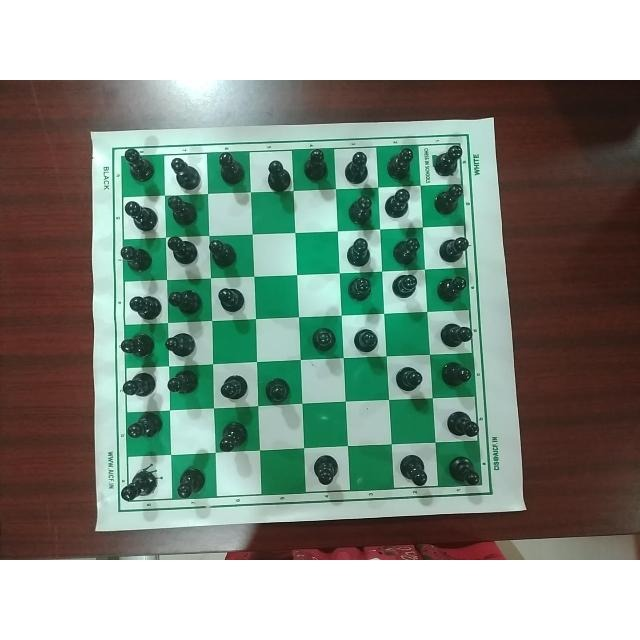black-pawn: (441, 449, 485, 487), (394, 450, 432, 490), (122, 409, 164, 442), (166, 154, 203, 191), (122, 146, 157, 185), (119, 470, 158, 503), (174, 462, 206, 502), (308, 452, 343, 488), (122, 197, 159, 231), (434, 317, 475, 347), (435, 271, 469, 307), (444, 405, 480, 439), (119, 240, 157, 272), (437, 230, 471, 265), (431, 182, 464, 218), (215, 420, 248, 456), (438, 359, 477, 389), (165, 195, 201, 227), (391, 231, 423, 267), (392, 363, 427, 395), (214, 150, 245, 186), (127, 288, 163, 319), (386, 143, 416, 180), (118, 332, 157, 360), (167, 369, 201, 401), (167, 287, 203, 317), (301, 147, 329, 185), (122, 372, 160, 400), (207, 236, 241, 267), (164, 328, 198, 359), (433, 143, 465, 175), (345, 192, 374, 227), (342, 149, 370, 185), (166, 237, 202, 265), (215, 284, 247, 315), (383, 189, 412, 223), (217, 371, 248, 402), (308, 324, 340, 354), (263, 157, 291, 191), (343, 235, 372, 267), (390, 272, 419, 304), (349, 326, 381, 354), (346, 273, 373, 306), (263, 374, 291, 405)
